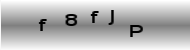8: (64, 12, 78, 27)
J: (108, 8, 115, 25)
P: (129, 23, 143, 37)
f: (38, 17, 48, 32), (89, 9, 99, 24)
